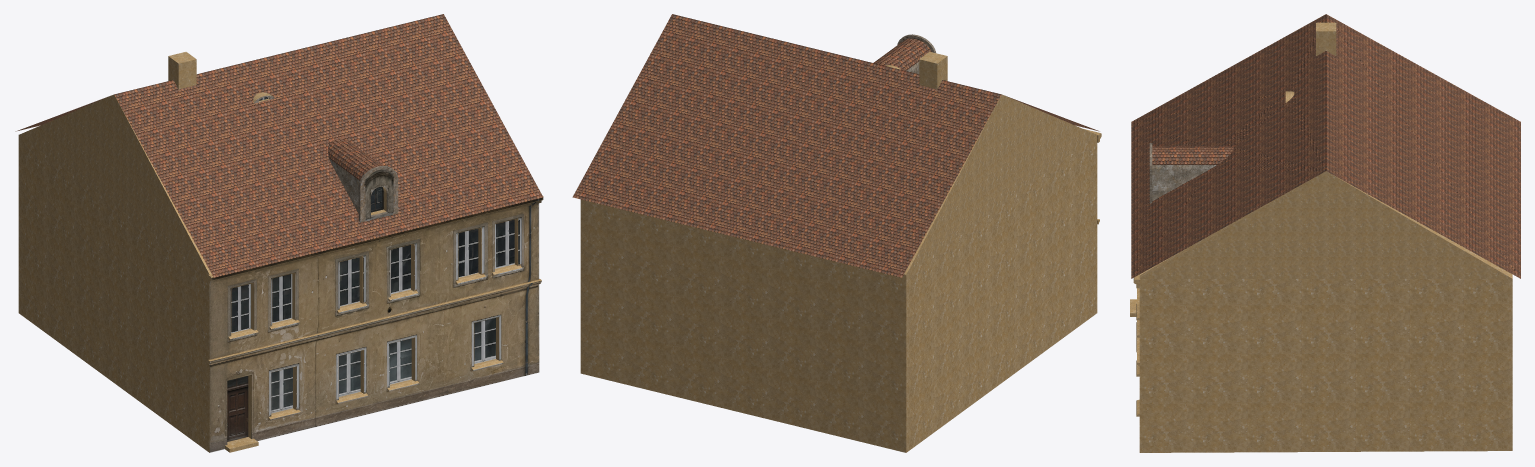
The model's file is cp261_study.glb.
The picture shows the model from 3 angles, left to right: view 1: azimuth 30°, elevation 25°; view 2: azimuth 150°, elevation 25°; view 3: azimuth 270°, elevation 25°; orthographic projection. The views are drawn at different scales.
Visible parts, largest first — view 1: CP_261_Masonry, CP_261_Roof, CP_261_Gable_L_gable, CP_261_Dormer_dormer1, CP_261_Cornice_eave_0, CP_261_Cornice_string_0, CP_261_Dormer_dormer1_frame, CP_261_Chimney_0; view 2: CP_261_Masonry, CP_261_Roof, CP_261_Gable_L_gable, CP_261_Dormer_dormer1, CP_261_Chimney_0; view 3: CP_261_Masonry, CP_261_Roof, CP_261_Gable_R_gable, CP_261_Dormer_dormer1, CP_261_Chimney_0.
Part boxes in pixels (left/top/right/bottom): CP_261_Masonry: left=18, top=135, right=539, bottom=452; CP_261_Roof: left=15, top=14, right=542, bottom=277; CP_261_Gable_L_gable: left=19, top=94, right=211, bottom=274; CP_261_Dormer_dormer1: left=328, top=138, right=386, bottom=215; CP_261_Cornice_eave_0: left=208, top=196, right=543, bottom=283; CP_261_Cornice_string_0: left=208, top=279, right=541, bottom=364; CP_261_Dormer_dormer1_frame: left=358, top=165, right=398, bottom=222; CP_261_Chimney_0: left=168, top=52, right=196, bottom=89; CP_261_Masonry: left=580, top=135, right=1097, bottom=452; CP_261_Roof: left=572, top=14, right=1099, bottom=277; CP_261_Gable_L_gable: left=904, top=94, right=1096, bottom=274; CP_261_Dormer_dormer1: left=873, top=38, right=931, bottom=73; CP_261_Chimney_0: left=919, top=51, right=947, bottom=89; CP_261_Masonry: left=1139, top=253, right=1512, bottom=452; CP_261_Roof: left=1131, top=14, right=1520, bottom=278; CP_261_Gable_R_gable: left=1139, top=171, right=1512, bottom=278; CP_261_Dormer_dormer1: left=1152, top=146, right=1233, bottom=200; CP_261_Chimney_0: left=1316, top=22, right=1336, bottom=56.
Bounding box in the file's own units: 13.85 × 12.3 × 14.45.
Materials: 41 (41 with a texture image).
